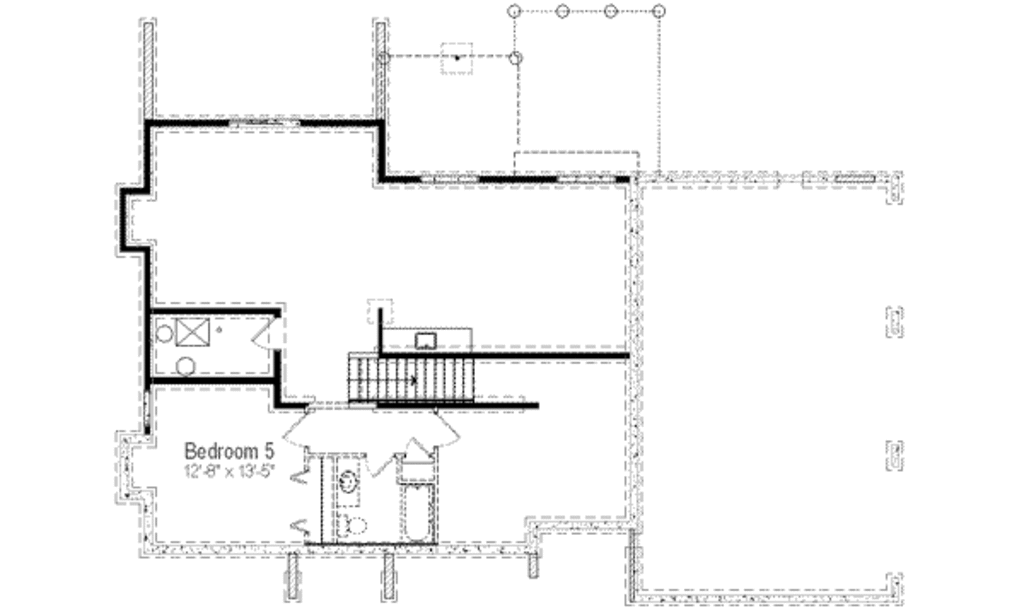large_sink: (337, 513, 371, 545)
small_sink: (333, 454, 360, 508)
stairs: (345, 347, 482, 404)
tub: (399, 486, 437, 542)
windows: (552, 170, 618, 187), (420, 170, 482, 188)
